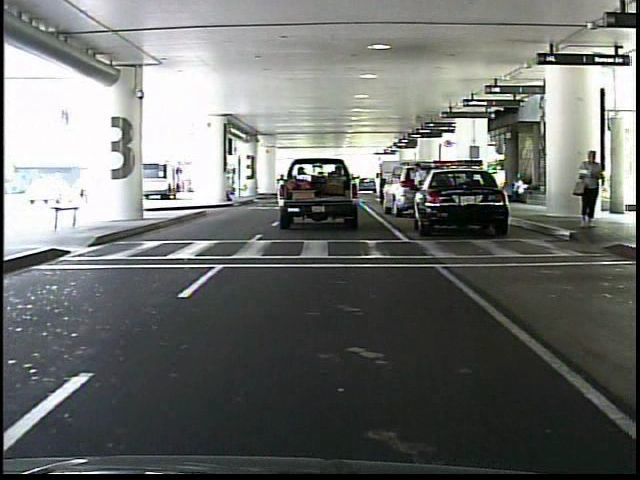person: (573, 147, 608, 234), (408, 160, 431, 220)
